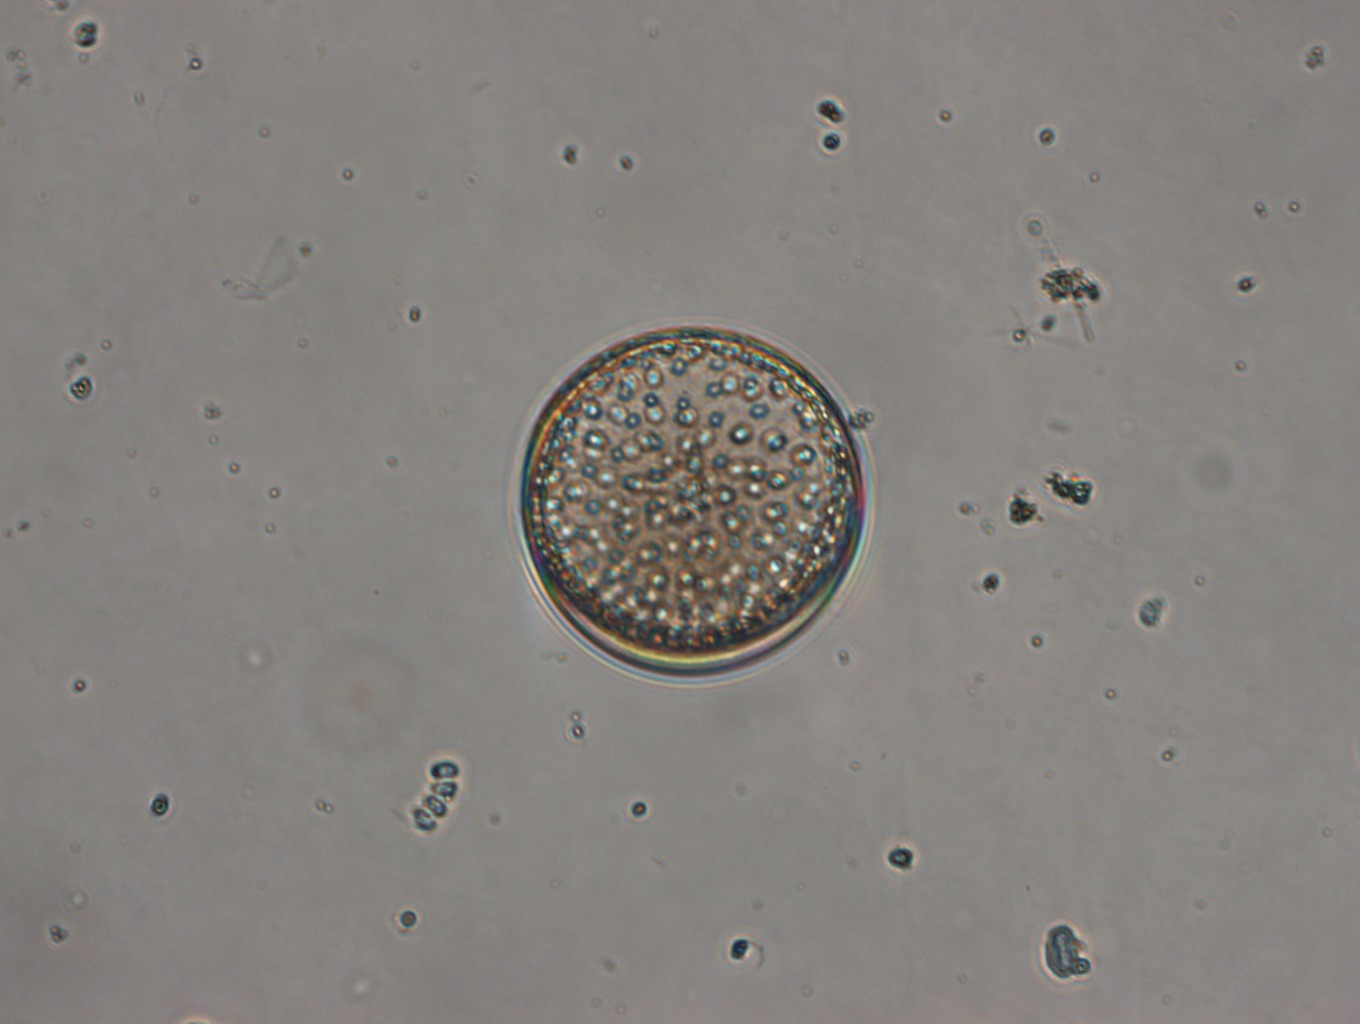coscinodiscus: (517, 326, 865, 677)
skeletonema: (409, 757, 463, 836)
